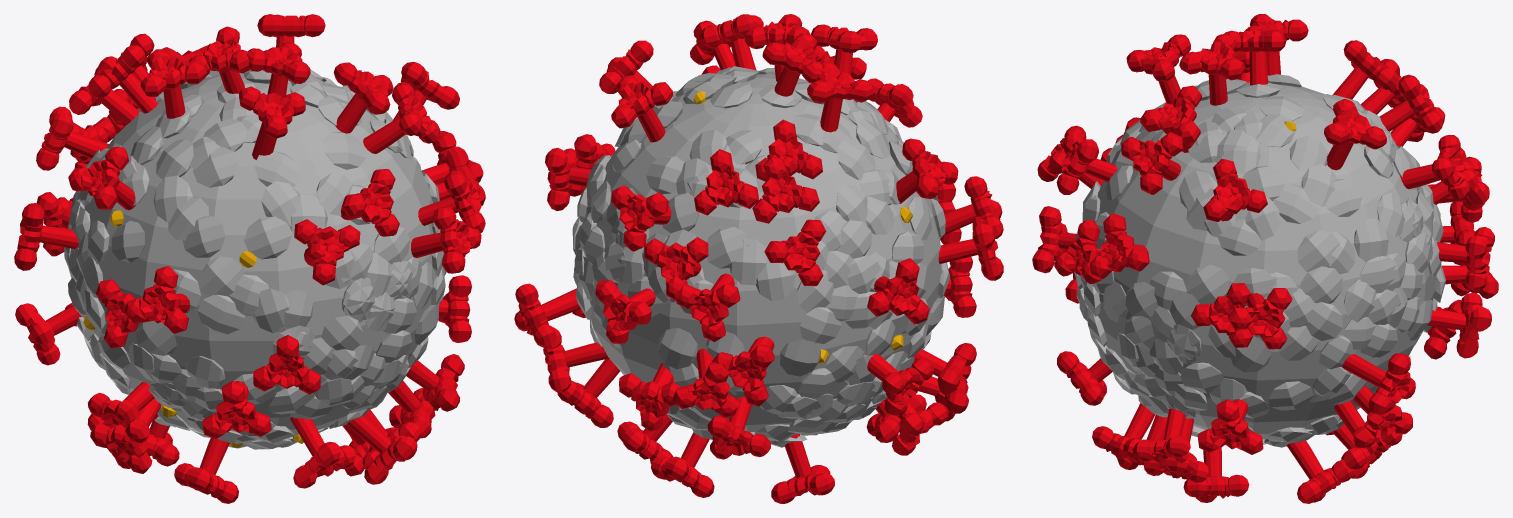
File: COVID19.fbx
3 views of the same model, side by side, from view 1: azimuth 30°, elevation 25°; view 2: azimuth 150°, elevation 25°; view 3: azimuth 270°, elevation 25° (orthographic). The views are drawn at different scales.
Visible parts, largest first — view 1: Sphere, Sphere.029, Sphere.037, Sphere.030, Sphere.038, Sphere.036, Sphere.033, Sphere.022, Sphere.026, Sphere.035, Sphere.039, Sphere.031 (+78 smaller); view 2: Sphere, Sphere.014, Sphere.051, Sphere.049, Sphere.050, Sphere.009, Sphere.007, Sphere.036, Sphere.038, Sphere.012, Sphere.010, Sphere.052 (+69 smaller); view 3: Sphere, Sphere.012, Sphere.026, Sphere.020, Sphere.014, Sphere.017, Sphere.015, Sphere.019, Sphere.025, Sphere.052, Sphere.022, Sphere.030 (+85 smaller).
Boxes of the visible parts, x1,y1,x2,y2 form: Sphere: (84,73,435,436); Sphere.029: (411,207,481,273); Sphere.037: (124,266,190,333); Sphere.030: (239,86,305,159); Sphere.038: (68,147,136,210); Sphere.036: (140,49,206,118); Sphere.033: (294,219,360,285); Sphere.022: (333,62,393,133); Sphere.026: (363,82,440,153); Sphere.035: (202,381,271,438); Sphere.039: (90,398,161,473); Sphere.031: (341,169,399,236); Sphere: (582,74,941,434); Sphere.014: (611,75,673,142); Sphere.051: (672,348,739,417); Sphere.049: (867,258,929,324); Sphere.050: (752,156,819,223); Sphere.009: (675,273,740,341); Sphere.007: (595,280,655,343); Sphere.036: (807,61,873,132); Sphere.038: (896,138,958,203); Sphere.012: (514,283,580,347); Sphere.010: (694,149,759,215); Sphere.052: (611,185,671,251); Sphere: (1097,82,1436,439); Sphere.012: (1342,353,1415,414); Sphere.026: (1121,132,1183,194); Sphere.020: (1179,33,1244,105); Sphere.014: (1324,99,1386,170); Sphere.017: (1228,288,1292,349); Sphere.015: (1203,159,1267,221); Sphere.019: (1197,399,1263,454); Sphere.025: (1089,213,1149,278); Sphere.052: (1400,135,1469,198); Sphere.022: (1140,85,1201,152); Sphere.030: (1126,34,1190,103).
Bounding box in the file's own units: 261 × 263 × 260.
